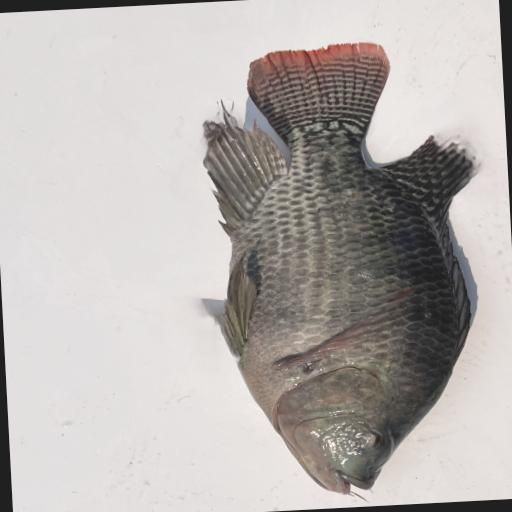Tilapia: (197, 37, 494, 510)
